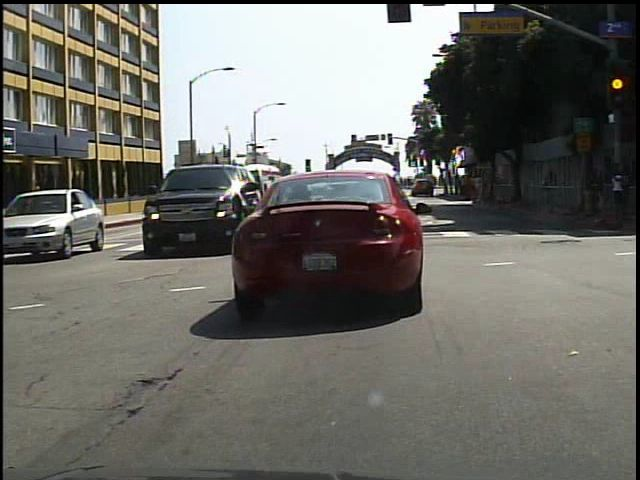person: (32, 184, 53, 235)
